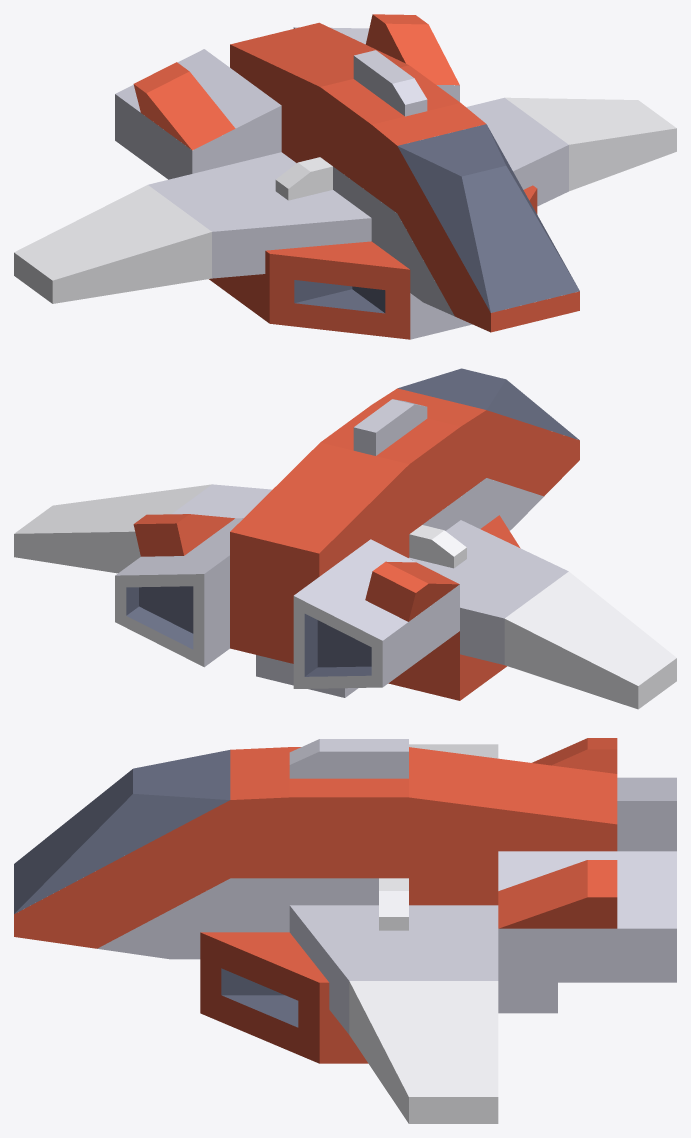
The model's file is spaceship-transformed.glb.
The picture shows the model from 3 angles, top to bottom: view 1: azimuth 30°, elevation 25°; view 2: azimuth 150°, elevation 25°; view 3: azimuth 270°, elevation 25°; orthographic projection. The views are drawn at different scales.
Parts seen in each view (by area): view 1: craft_speederD2; view 2: craft_speederD2; view 3: craft_speederD2.
Part boxes in pixels (x1,y1,x2,y2): craft_speederD2: (14,14,676,339); craft_speederD2: (14,368,676,709); craft_speederD2: (14,738,676,1123).
Bounding box in the file's own units: 2.8 × 0.9 × 2.23.
